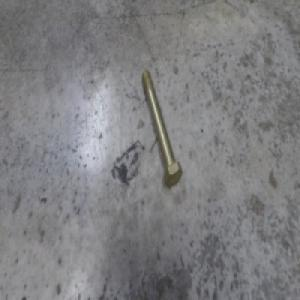Bolt: (140, 66, 181, 188)
